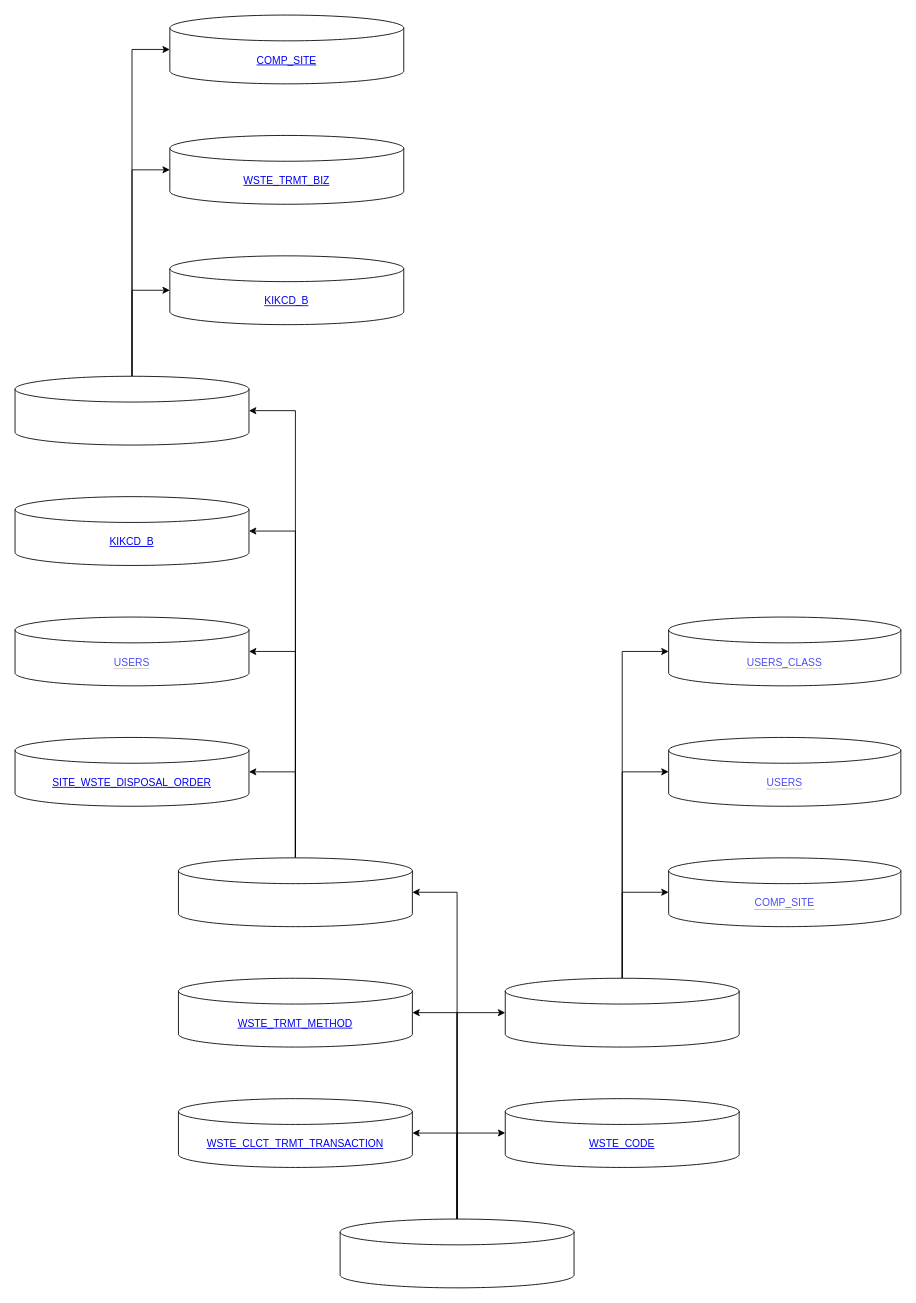
Some shapes in this 916 by 1303 pixel diagram are drawn without their labels. The centre of each missing label's shape, as x and y in pixels:
"V_COMP_SITE" goes at pixel 131 410.
"V_SITE_WSTE_DISPOSAL_ORDER" goes at pixel 295 892.
"V_USERS" goes at pixel 621 1012.
"V_WSTE_CLCT_TRMT_TRANSACTION" goes at pixel 456 1253.
